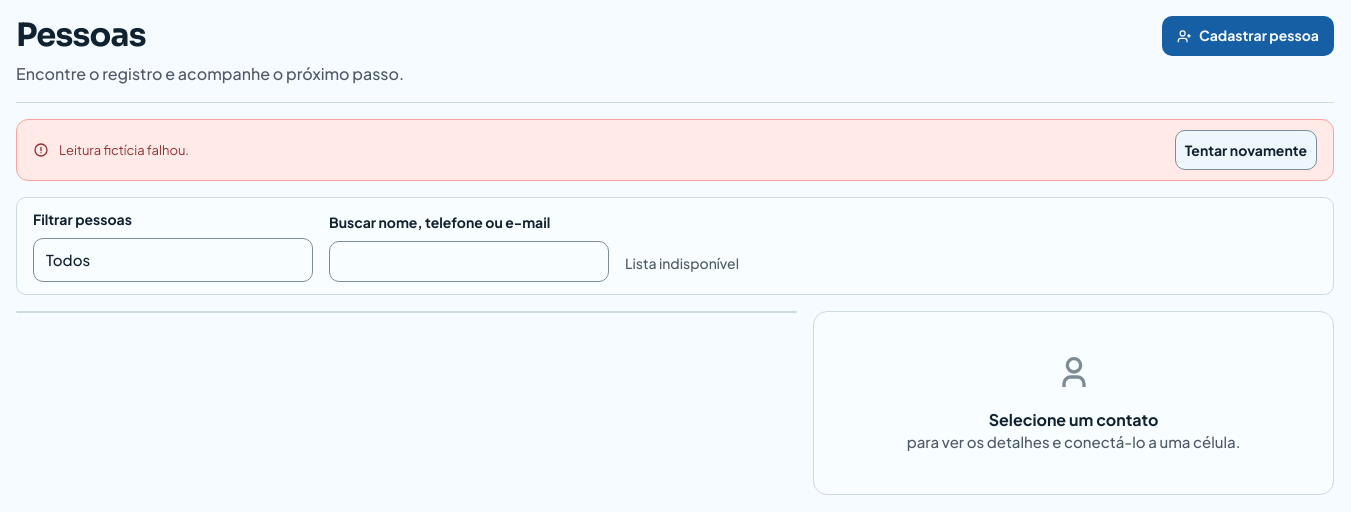
Test: Pessoas, erro de leitura › falha inicial oferece retry e só declara vazio depois de leitura confirmada
Expected: the message "Leitura fictícia falhou. Tentar novamente" is shown, top-left (16, 119), bottom-right (1334, 181)
Expected: the text "Nenhum" is not shown
Click the button "Tentar novamente". click: (1246, 150)
box: top-left (1175, 130), bottom-right (1317, 170)
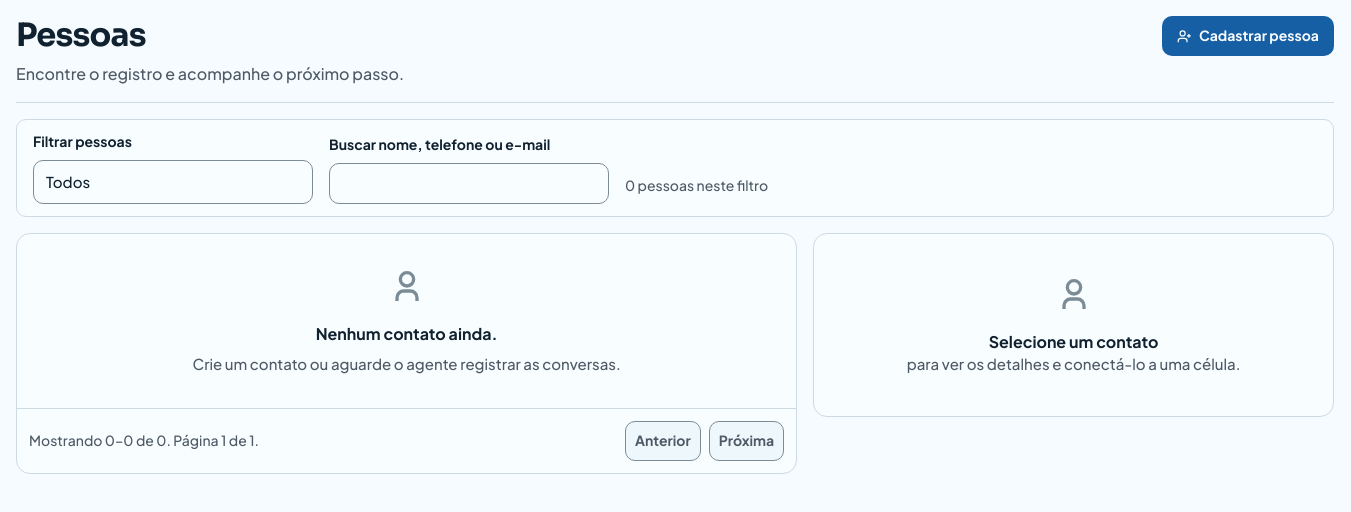
Result: the message "Leitura fictícia falhou. Tentar novamente" is gone
Result: the text "Nenhum contato ainda." is shown at top-left (316, 324), bottom-right (498, 344)
